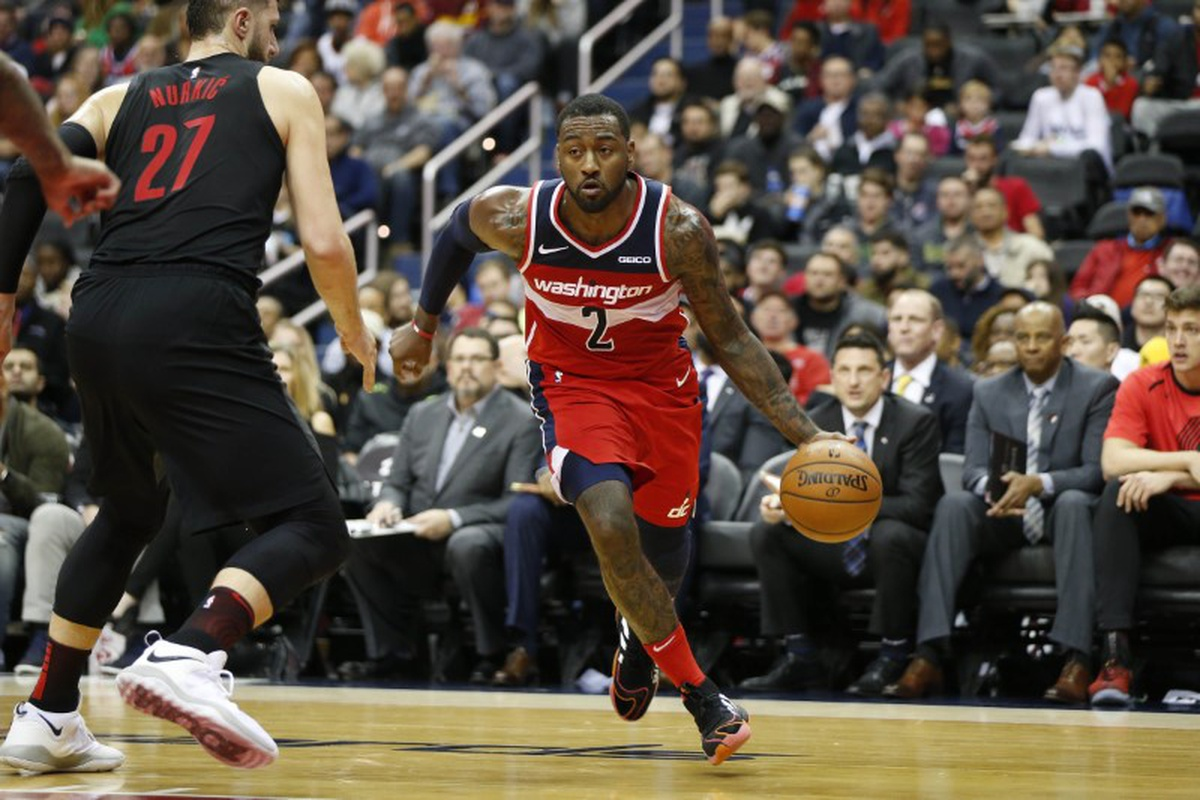Geico: (614, 250, 657, 269)
